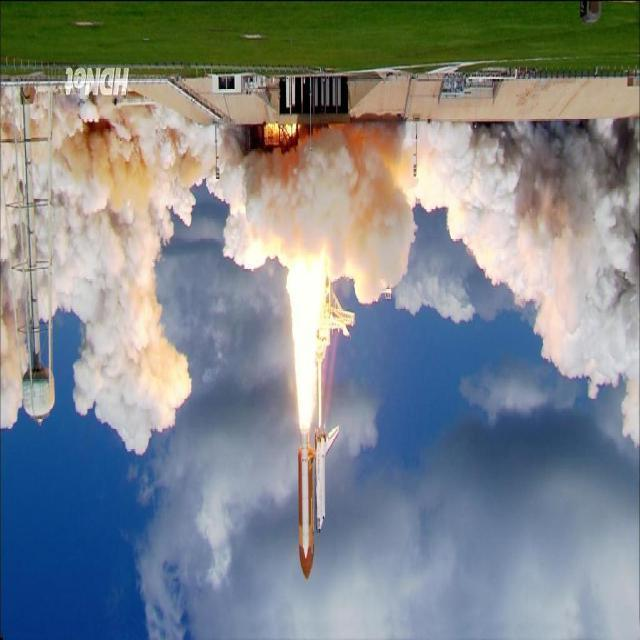missile: (289, 425, 336, 581)
